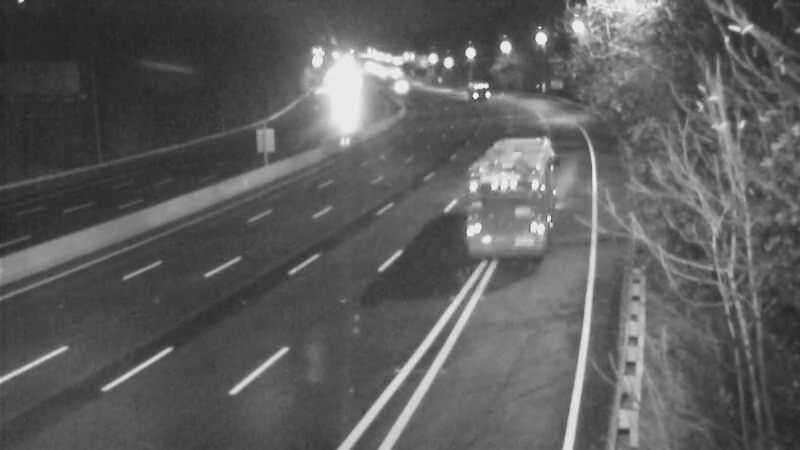vehicle: (466, 165, 546, 245), (376, 60, 426, 110), (450, 65, 500, 115), (316, 78, 366, 128)
